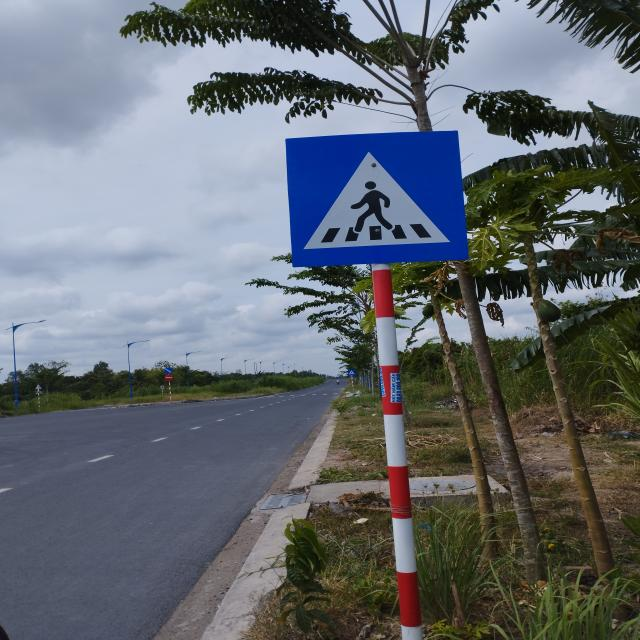Giao_Nhau_Duong_Uu_Tien: (286, 130, 467, 267)
